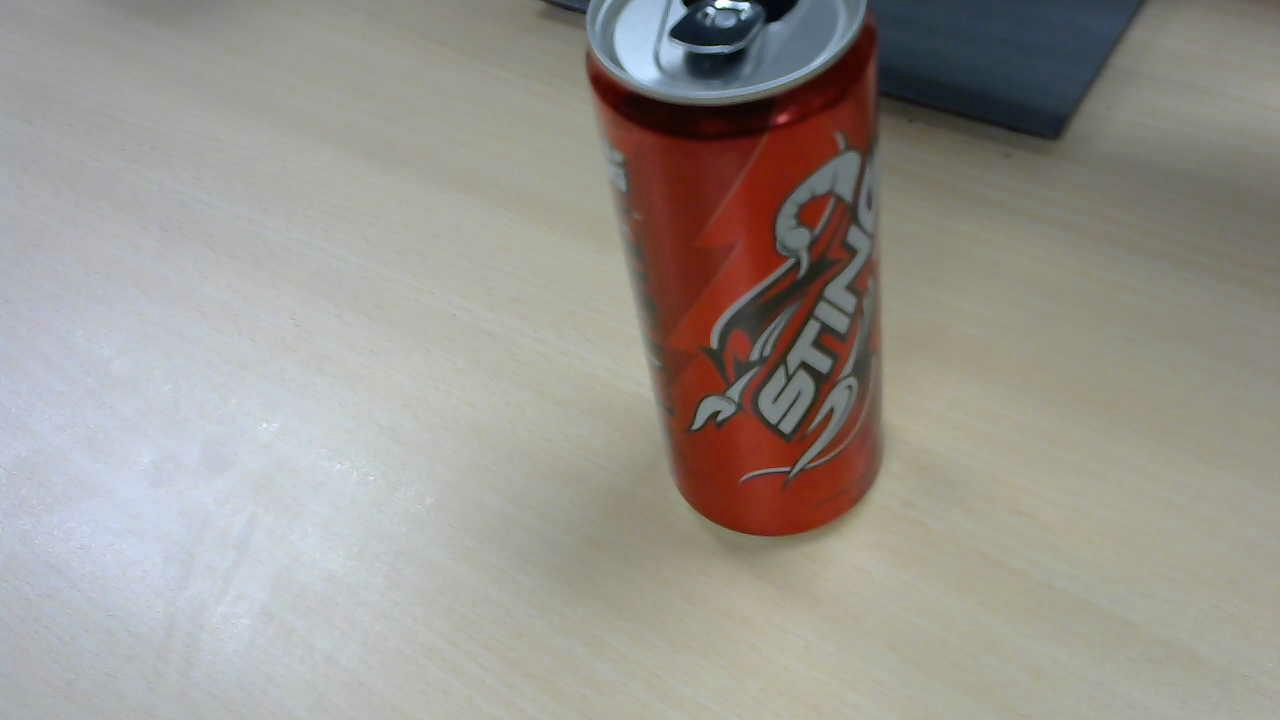Sting: (589, 6, 887, 542)
